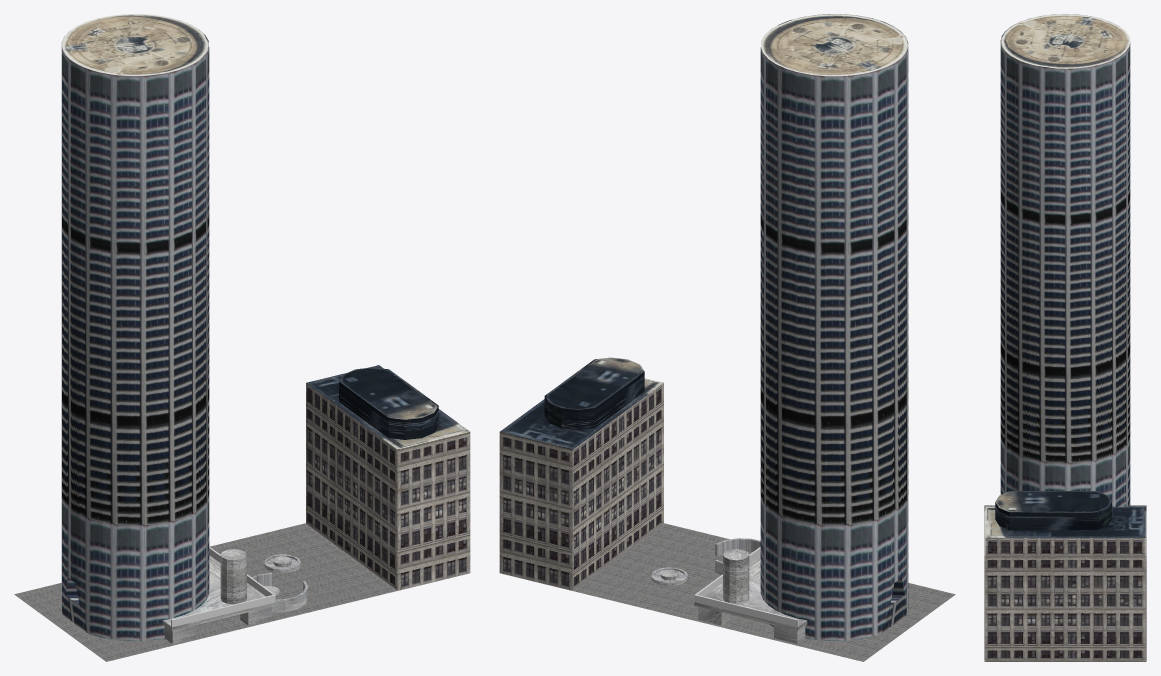
File: australiaSquare 1.fbx
3 views of the same model, side by side, from view 1: azimuth 30°, elevation 25°; view 2: azimuth 150°, elevation 25°; view 3: azimuth 270°, elevation 25° (orthographic). The views are drawn at different scales.
Parts seen in each view (by area): view 1: Cylinder, Cube, Plane, Cube.001, Cylinder.001, Cube.002; view 2: Cylinder, Cube, Plane, Cube.001, Cylinder.001, Cube.002; view 3: Cylinder, Cube, Plane.
Part boxes in pixels (box(x1,y1,x2,y2)): Cylinder: box(61, 14, 209, 640); Cube: box(306, 365, 470, 590); Plane: box(14, 523, 470, 661); Cube.001: box(162, 549, 275, 643); Cylinder.001: box(251, 554, 308, 612); Cube.002: box(171, 547, 275, 627); Cylinder: box(760, 14, 908, 640); Cube: box(499, 357, 663, 590); Plane: box(499, 523, 955, 661); Cube.001: box(694, 549, 807, 643); Cylinder.001: box(651, 538, 760, 585); Cube.002: box(694, 547, 798, 627); Cylinder: box(1000, 14, 1130, 506); Cube: box(985, 491, 1145, 661); Plane: box(984, 505, 1146, 661).
Bounding box in the file's own units: 22800 × 34000 × 10000.
6 materials, 6 textured.
